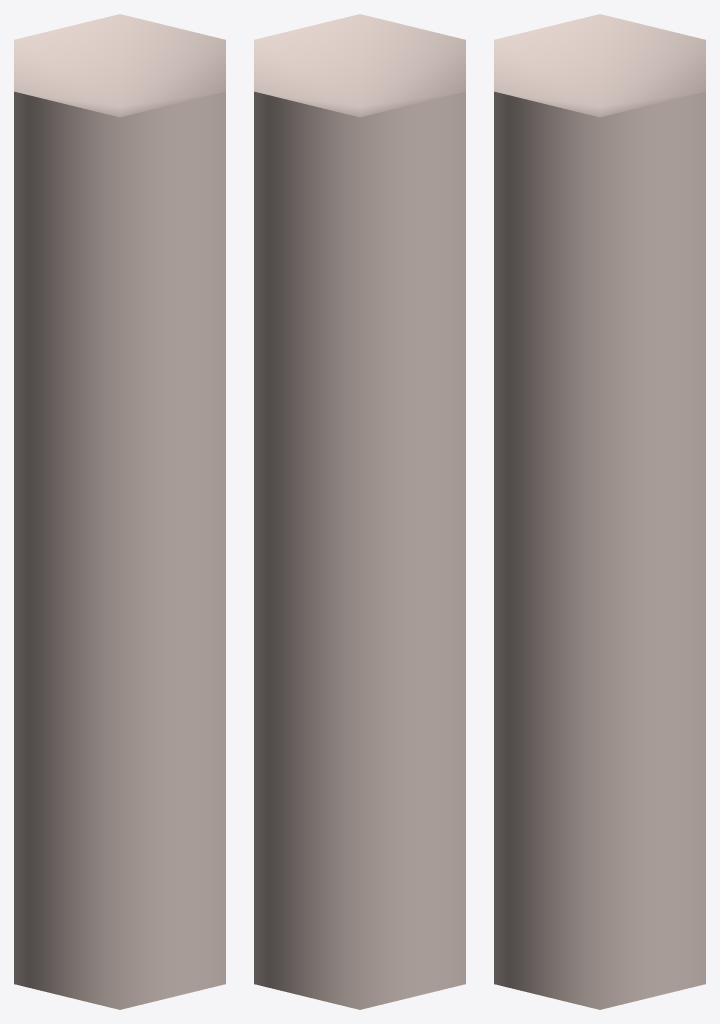
File: Candle_s.fbx
The picture shows the model from 3 angles, left to right: view 1: azimuth 30°, elevation 25°; view 2: azimuth 150°, elevation 25°; view 3: azimuth 270°, elevation 25°; orthographic projection.
Visible parts, largest first — view 1: candle3; view 2: candle3; view 3: candle3.
Part boxes in pixels (x1,y1,x2,y2): candle3: (14,14,225,1009); candle3: (254,14,465,1009); candle3: (494,14,705,1009).
Bounding box in the file's own units: 0.0118 × 0.0474 × 0.0102.
